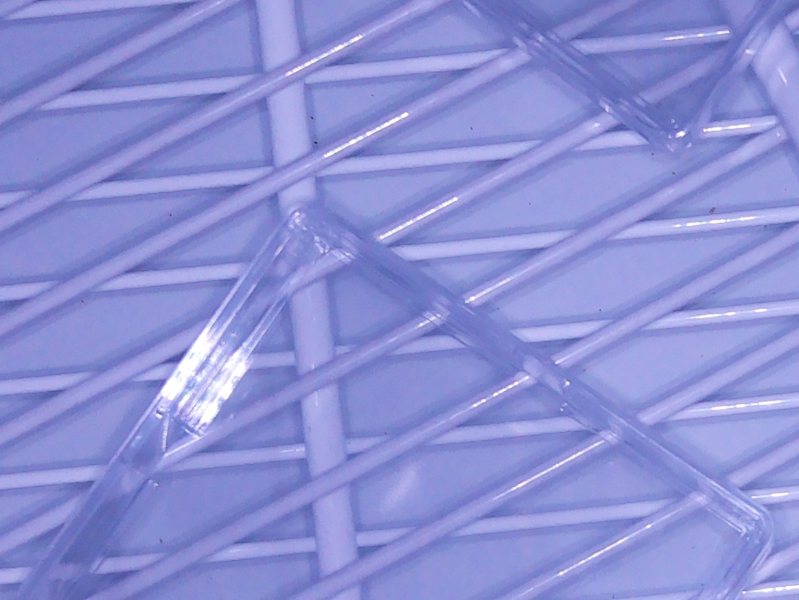plate: (17, 201, 774, 600), (449, 1, 789, 155)
